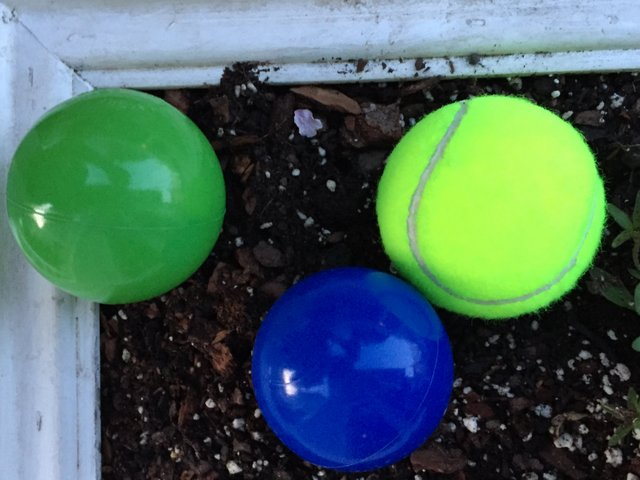Ball: (7, 91, 227, 307)
